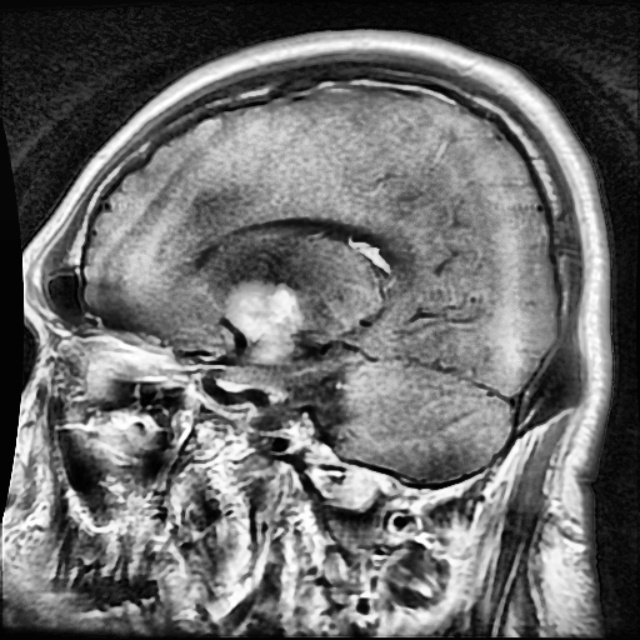Pituitary: (227, 279, 299, 359)
